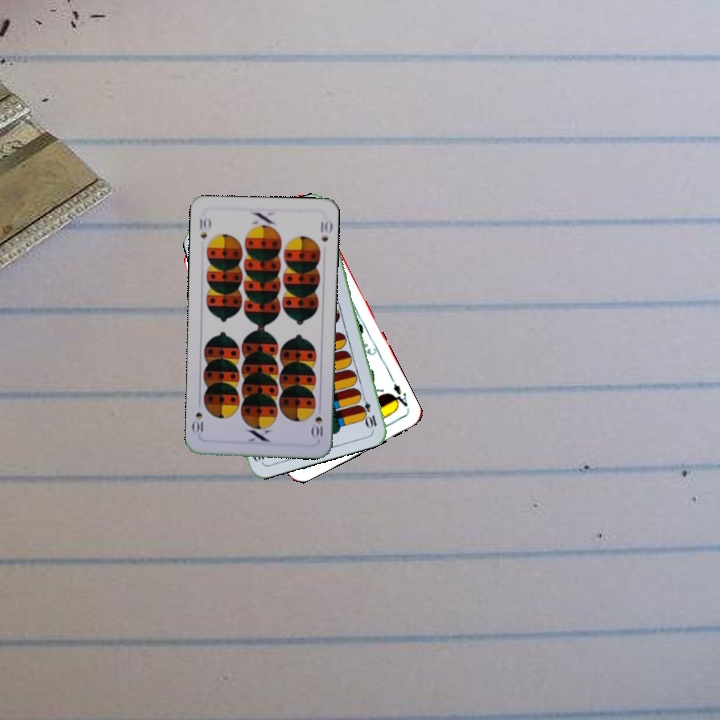E10: (357, 390, 380, 431)
EA: (386, 379, 410, 411)
S10: (309, 402, 325, 442), (195, 214, 213, 241)
